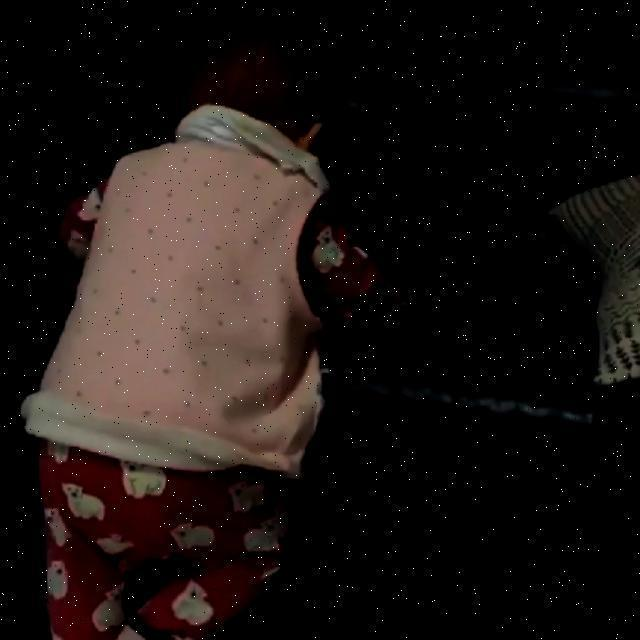child: (34, 26, 408, 640)
